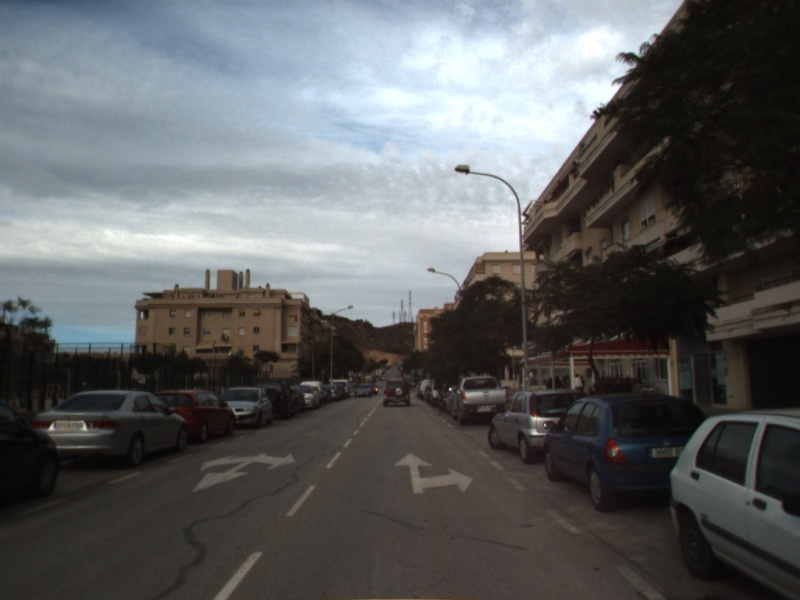STRAIGHT_RIGHT: (391, 451, 475, 496)
